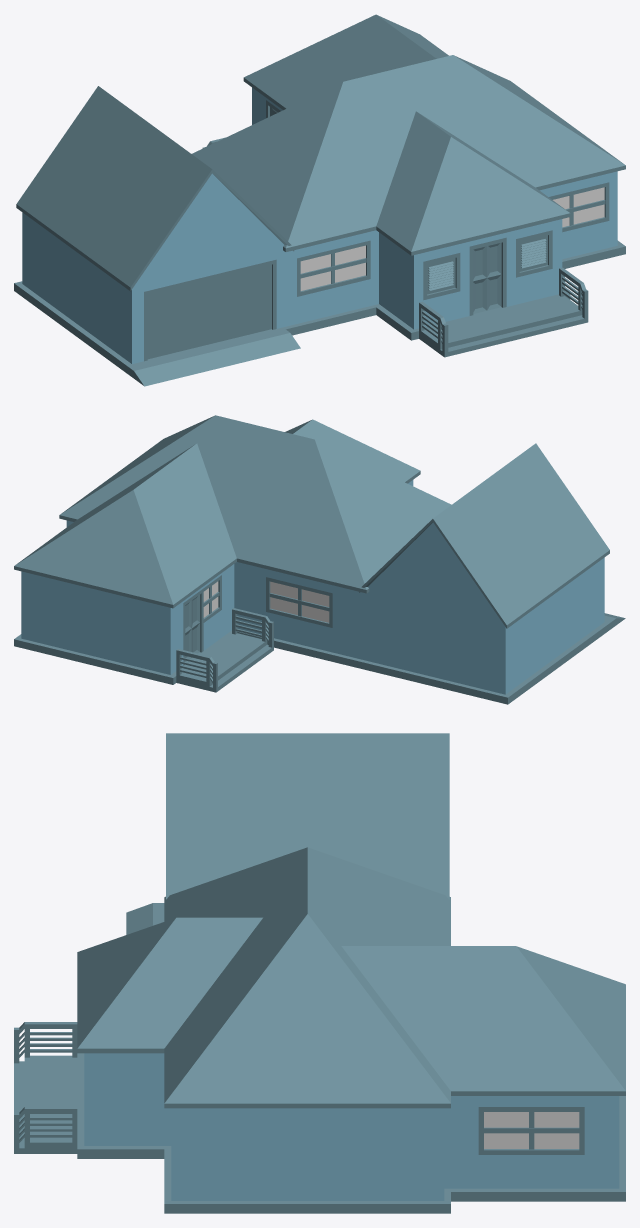
The model's file is House #19.fbx.
3 views of the same model, one above another, from view 1: azimuth 30°, elevation 25°; view 2: azimuth 150°, elevation 25°; view 3: azimuth 270°, elevation 25° (orthographic). The views are drawn at different scales.
Visible parts, largest first — view 1: building_001; view 2: building_001; view 3: building_001.
Boxes of the visible parts, <box> form: building_001: <box>14,14,625,386</box>; building_001: <box>14,415,625,704</box>; building_001: <box>14,733,625,1213</box>.
Size of the model in its own units: 1348 by 480 by 1157.
